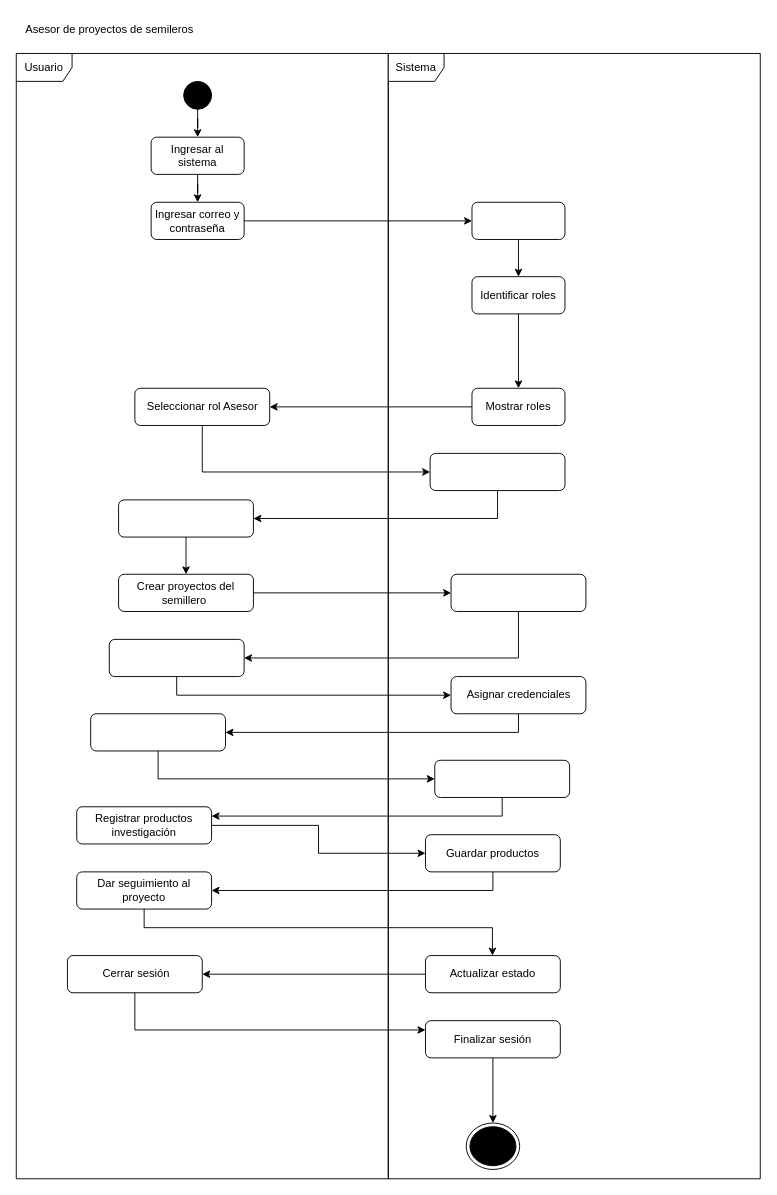
This 777x1195 diagram has some shape labels left out. The shapes that lost their labels are listed below. From the top down, each one's centre as x and y in pixels, then its label:
At (x=518, y=220): "Validar credenciales".
At (x=497, y=471): "Mostrar panel".
At (x=185, y=518): "Consultar panel principal".
At (x=518, y=592): "Guardar proyectos".
At (x=176, y=657): "Crear usuarios aprendices".
At (x=158, y=732): "Vincular aprendices a proyectos".
At (x=502, y=778): "Asociar aprendices".
